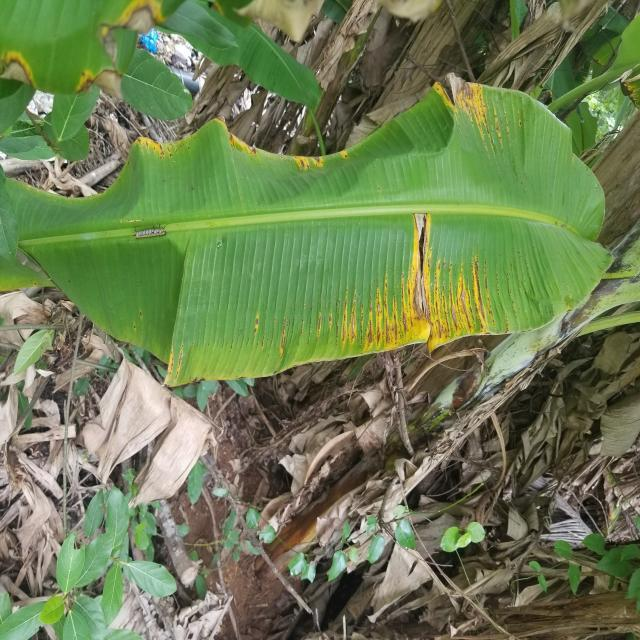Early_rust: (79, 76, 580, 396), (0, 0, 210, 116)
